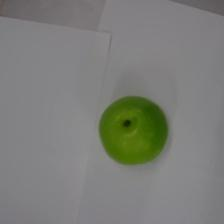green: (97, 94, 170, 168)
